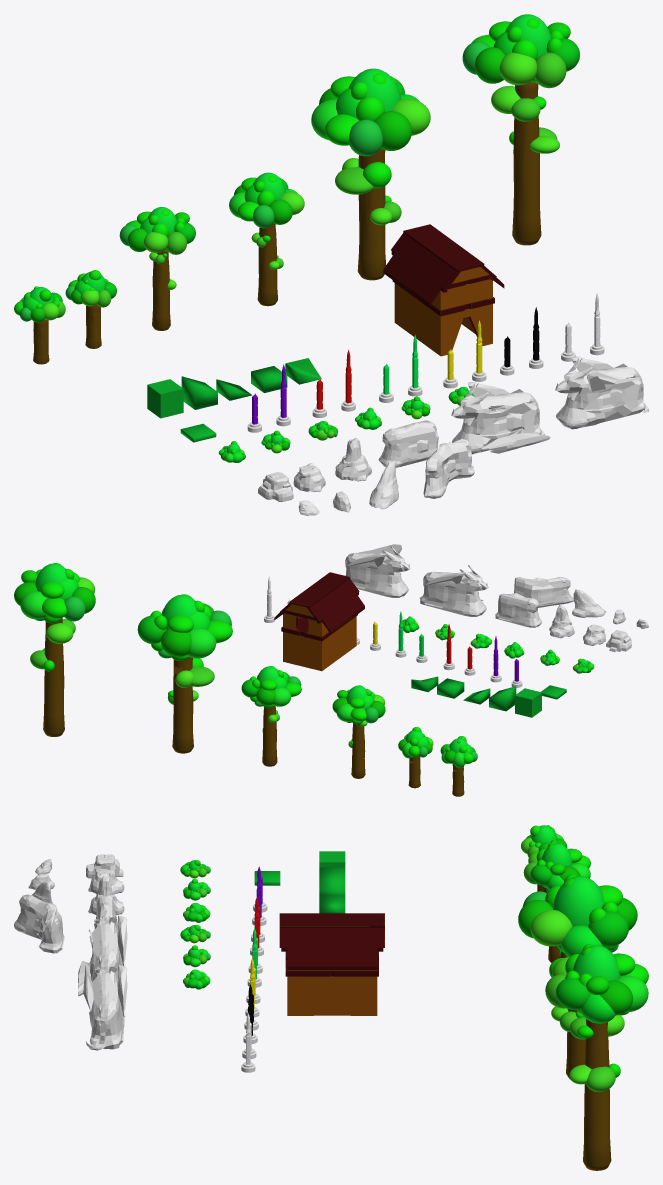
File: cubes.glb
3 views of the same model, one above another, from view 1: azimuth 30°, elevation 25°; view 2: azimuth 150°, elevation 25°; view 3: azimuth 270°, elevation 25° (orthographic). The views are drawn at different scales.
Visible parts, largest first — view 1: TreeTallll1, TreeTallll2, Cube.002, Dragonstatuebroken, Dragonstatue, TreeTall2, TreeTall1, StoneWall, Tree2, StoneWallAlt, Tree1, fullcube (+6 smaller); view 2: TreeTallll1, TreeTallll2, Cube.002, TreeTall2, Dragonstatue, Dragonstatuebroken, TreeTall1, StoneWallAlt, StoneWall, Tree2, Tree1, fullcube (+6 smaller); view 3: TreeTallll2, Cube.002, TreeTallll1, Dragonstatue, TreeTall1, Dragonstatuebroken, StoneWallAlt, Tree2, stair1, Stone, StoneTall, StoneWall.
Part boxes in pixels (bbox=[...]): TreeTallll1: bbox=[311, 68, 430, 280]; TreeTallll2: bbox=[462, 14, 579, 245]; Cube.002: bbox=[383, 224, 504, 356]; Dragonstatuebroken: bbox=[451, 382, 550, 454]; Dragonstatue: bbox=[555, 356, 648, 429]; TreeTall2: bbox=[229, 172, 304, 306]; TreeTall1: bbox=[119, 207, 195, 330]; StoneWall: bbox=[378, 420, 438, 467]; Tree2: bbox=[14, 286, 65, 364]; StoneWallAlt: bbox=[423, 439, 474, 498]; Tree1: bbox=[65, 270, 116, 348]; fullcube: bbox=[147, 379, 183, 418]; TreeTallll1: bbox=[137, 594, 232, 753]; TreeTallll2: bbox=[14, 563, 95, 736]; Cube.002: bbox=[274, 572, 364, 671]; TreeTall2: bbox=[241, 666, 301, 766]; Dragonstatue: bbox=[345, 544, 410, 597]; Dragonstatuebroken: bbox=[419, 565, 488, 616]; TreeTall1: bbox=[332, 685, 385, 778]; StoneWallAlt: bbox=[514, 577, 573, 607]; StoneWall: bbox=[495, 593, 541, 627]; Tree2: bbox=[440, 736, 477, 796]; Tree1: bbox=[398, 727, 433, 788]; fullcube: bbox=[515, 688, 541, 717]; TreeTallll2: bbox=[545, 944, 648, 1170]; Cube.002: bbox=[279, 913, 384, 1015]; TreeTallll1: bbox=[518, 874, 637, 1079]; Dragonstatue: bbox=[83, 965, 127, 1050]; TreeTall1: bbox=[523, 842, 590, 962]; Dragonstatuebroken: bbox=[78, 915, 127, 996]; StoneWallAlt: bbox=[14, 894, 64, 953]; Tree2: bbox=[521, 825, 567, 891]; stair1: bbox=[319, 867, 345, 895]; Stone: bbox=[86, 854, 123, 878]; StoneTall: bbox=[88, 876, 124, 915]; StoneWall: bbox=[94, 895, 118, 934].
Size of the model in its own units: 50.46 by 18.65 by 48.97.
Materials: 293 (1 with a texture image).
